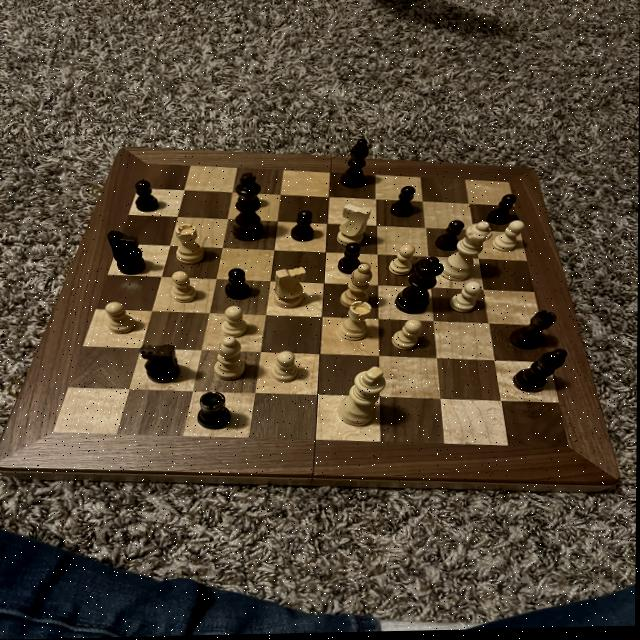bishop: (508, 350, 573, 401), (339, 139, 373, 192)
black-bishop: (228, 171, 271, 245)
black-king: (103, 228, 153, 279), (138, 342, 187, 388)
black-knight: (219, 267, 257, 303), (485, 194, 523, 229), (336, 243, 369, 279), (287, 209, 319, 245), (134, 177, 163, 216), (437, 219, 468, 255), (388, 185, 418, 220)
black-pawn: (391, 255, 449, 319)
black-queen: (506, 310, 565, 354), (197, 391, 239, 435)
black-rook: (338, 264, 375, 314), (214, 336, 252, 383)
white-bishop: (336, 364, 391, 432)
white-king: (334, 203, 377, 252), (273, 266, 311, 312)
white-knight: (104, 298, 142, 339), (388, 318, 427, 355), (168, 266, 203, 307), (491, 219, 527, 258), (449, 282, 488, 318), (268, 349, 304, 388), (216, 304, 253, 339), (386, 243, 419, 278)
white-pawn: (436, 220, 494, 286)
white-queen: (332, 302, 381, 346), (172, 221, 209, 266)
